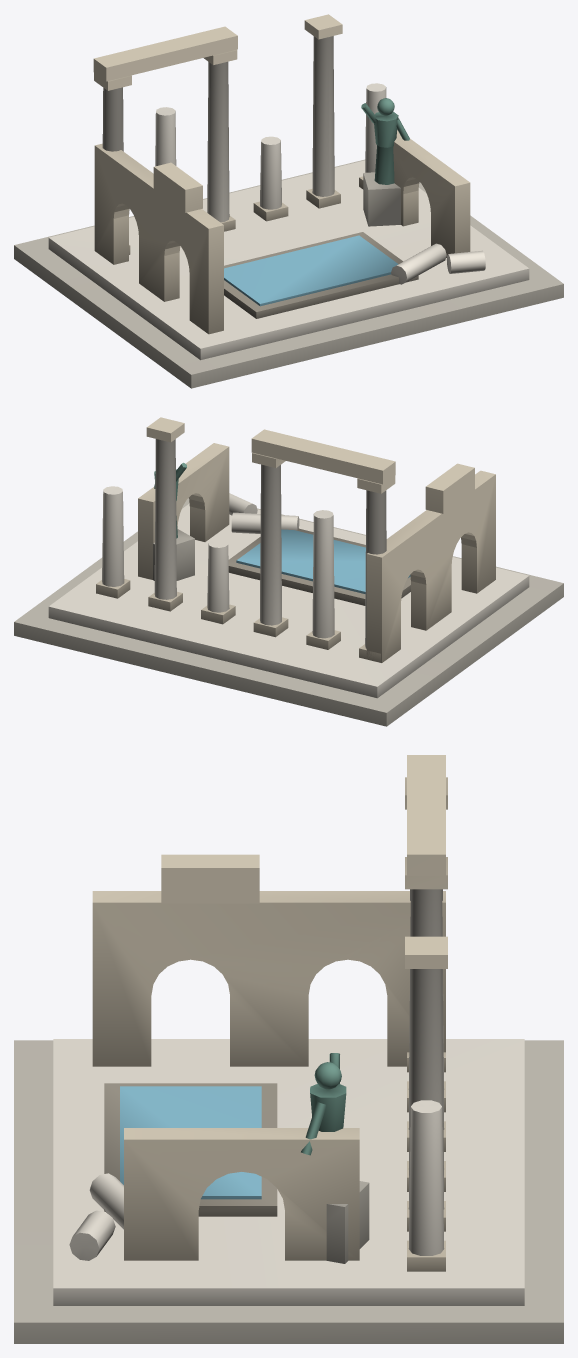
The model's file is mehadia.glb.
3 renders of one model, top to bottom at view 1: azimuth 30°, elevation 25°; view 2: azimuth 150°, elevation 25°; view 3: azimuth 270°, elevation 25°, orthographic. The views are drawn at different scales.
Visible parts, largest first — view 1: mehadia_stoneLight, mehadia_stone, mehadia_stoneGray, mehadia_water, mehadia_stoneDark, mehadia_bronze; view 2: mehadia_stoneLight, mehadia_stone, mehadia_stoneGray, mehadia_water, mehadia_stoneDark; view 3: mehadia_stoneLight, mehadia_stone, mehadia_stoneGray, mehadia_water, mehadia_stoneDark, mehadia_bronze.
Boxes of the visible parts, x1,y1,x2,y2 form: mehadia_stoneLight: (48, 36, 529, 360); mehadia_stone: (93, 14, 470, 334); mehadia_stoneGray: (14, 159, 563, 388); mehadia_water: (224, 235, 398, 306); mehadia_stoneDark: (224, 232, 418, 318); mehadia_bronze: (361, 98, 409, 184); mehadia_stoneLight: (48, 439, 529, 698); mehadia_stone: (96, 417, 495, 662); mehadia_stoneGray: (14, 498, 563, 726); mehadia_water: (236, 529, 410, 594); mehadia_stoneDark: (228, 528, 410, 605); mehadia_stoneLight: (53, 889, 524, 1305); mehadia_stone: (92, 755, 447, 1271); mehadia_stoneGray: (14, 1040, 563, 1343); mehadia_water: (120, 1086, 261, 1199); mehadia_stoneDark: (104, 1083, 277, 1216); mehadia_bronze: (301, 1053, 346, 1155).
Bounding box in the file's own units: 1.7 × 0.95 × 1.4.
